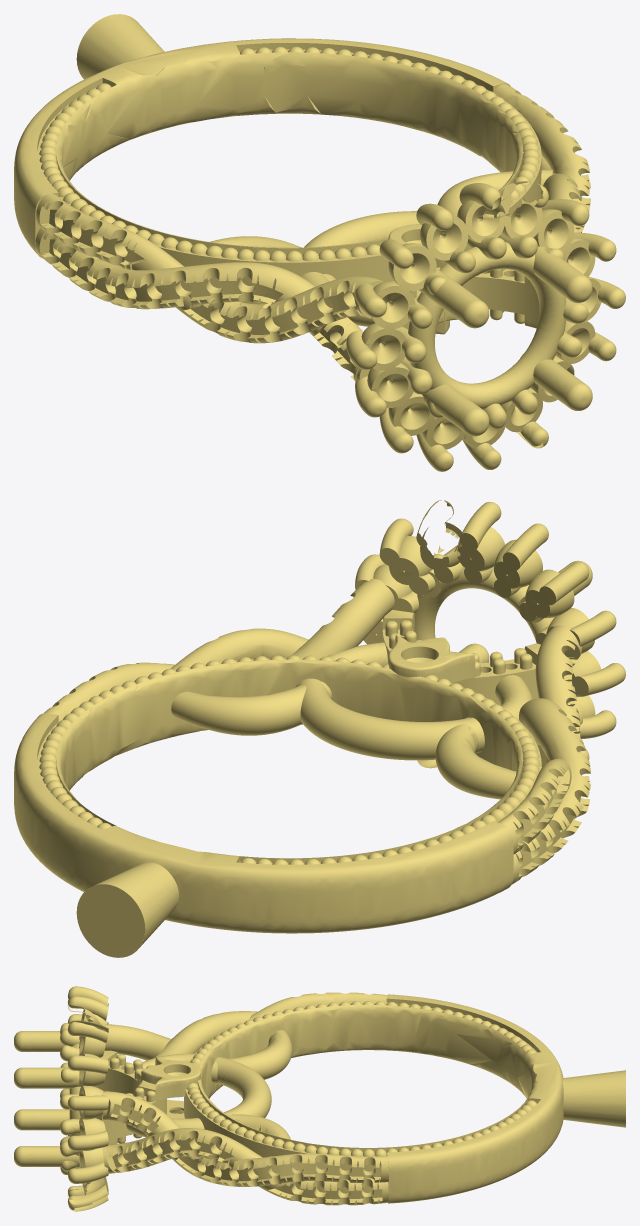
3 views of the same model, one above another, from view 1: azimuth 30°, elevation 25°; view 2: azimuth 150°, elevation 25°; view 3: azimuth 270°, elevation 25° (orthographic). The views are drawn at different scales.
Parts seen in each view (by area): view 1: Renderer Node; view 2: Renderer Node; view 3: Renderer Node.
Part boxes in pixels (x1,y1,x2,y2): Renderer Node: [14, 14, 625, 471]; Renderer Node: [14, 500, 625, 957]; Renderer Node: [14, 986, 625, 1211].
Size of the model in its own units: 21.62 by 12.12 by 32.92.
